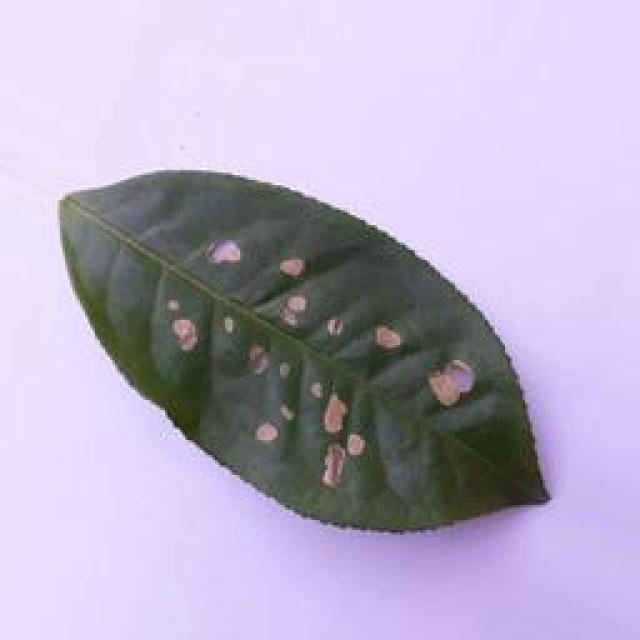Gray Blight: (47, 165, 558, 541)
